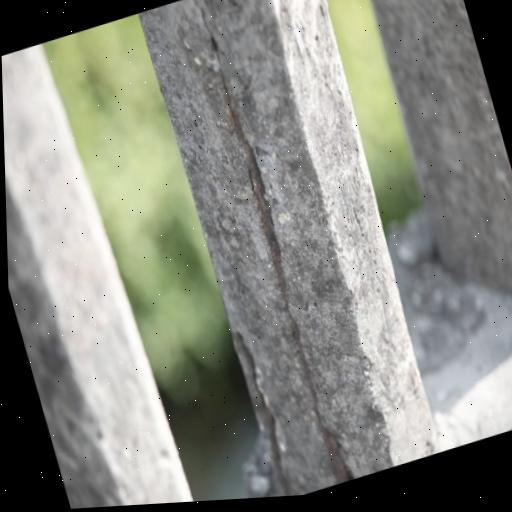exposed_rebar: (235, 118, 355, 485)
